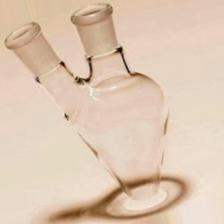Pear shaped flask: (8, 12, 174, 200)
